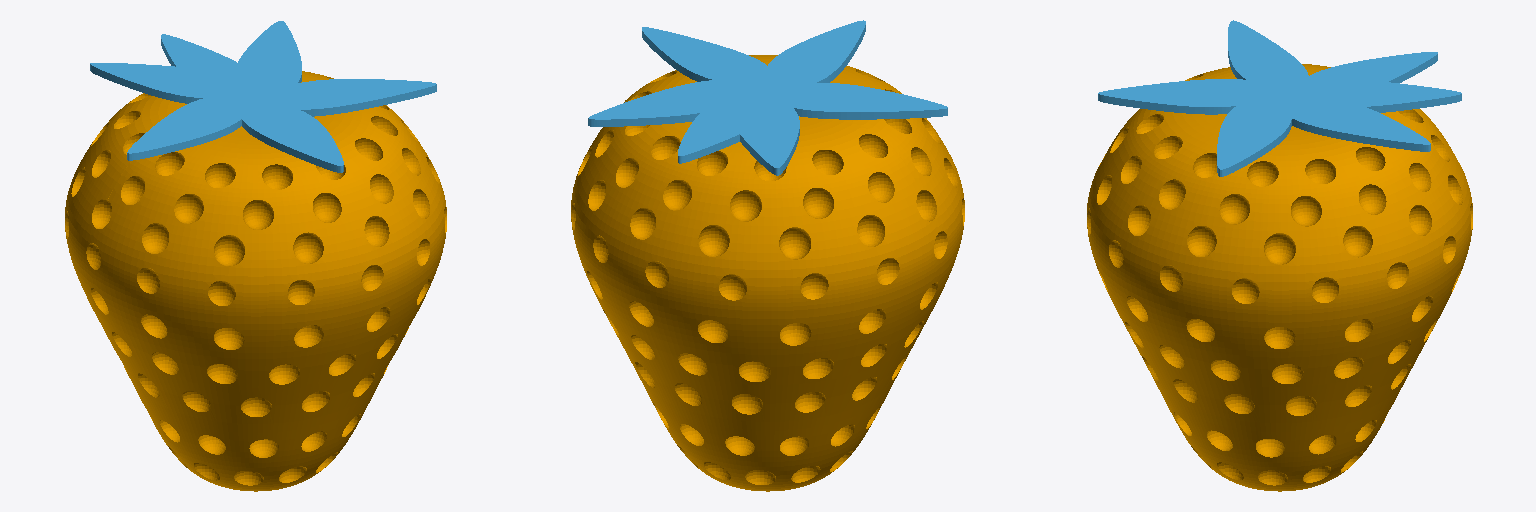
robot.urdf — strawberry:
<?xml version="1.0" ?>
<robot name="strawberry">

<material name="red">
  <color rgba="0.92 0.20 0.35 1.000"/>
</material>
<material name="green">
  <color rgba="0.0 1.0 0.0 1.000"/>
</material>


<link name="base_link">
  <inertial>
    <origin xyz="0.0 0.0 0.0" rpy="0 0 0"/>
    <mass value="1.2"/>
    <inertia ixx="0.0" iyy="0.0" izz="0.0" ixy="0.0" iyz="0.0" ixz="0.0"/>
  </inertial>
  <visual>
    <origin xyz="0 0 0" rpy="0 0 0"/>
    <geometry>
      <mesh filename="meshes/base_link.stl" scale="0.001 0.001 0.001"/>
    </geometry>
    <material name="red"/>
    <material/>
  </visual>
  <collision concave="yes">
    <origin xyz="0 0 0" rpy="0 0 0"/>
    <geometry>
      <mesh filename="meshes/base_link_col.stl" scale="0.0008 0.0008 0.0008"/>
    </geometry>
     <contact>
    <soft_cfm value="0.0"/>
      <soft_erp value="0.2"/>
  </contact>
  </collision>
</link>

<link name="leaf1">
  <inertial>
    <origin xyz="0.00022759153920535322 0.0017307134739732465 0.000500000759959221" rpy="0 0 0"/>
    <mass value="0.54260231966086"/>
    <inertia ixx="4.626098642629739e-07" iyy="3.7135835812823516e-07" izz="8.330638851917674e-07" ixy="2.52146951822774e-09" iyz="9.529120656610879e-22" ixz="-9.26442286059391e-23"/>
  </inertial>
  <visual>
    <origin xyz="-0.0 -0.0 -0.051" rpy="0 0 0"/>
    <geometry>
      <mesh filename="meshes/leaf1.stl" scale="0.001 0.001 0.001"/>
    </geometry>
    <material name="green"/>
    <material/>
  </visual>
  <collision cocave="yes">
    <origin xyz="-0.0 -0.0 -0.051" rpy="0 0 0"/>
    <geometry>
      <mesh filename="meshes/leaf1_col.stl" scale="0.0008 0.0008 0.008"/>
    </geometry>
     <contact>
    <soft_cfm value="0.0"/>
      <soft_erp value="0.2"/>
  </contact>
  </collision>
</link>

<joint name="Rigid_1" type="fixed">
  <origin xyz="0.0 0.0 0.051" rpy="0 0 0"/>
  <parent link="base_link"/>
  <child link="leaf1"/>
</joint>

</robot>

--- Render facts (derived) ---
3 views of the same robot in one strip: view 1: azimuth 30°, elevation 25°; view 2: azimuth 150°, elevation 25°; view 3: azimuth 270°, elevation 25° (orthographic).
Robot: strawberry — 2 links, 1 joints (1 fixed); root link base_link; default pose: every joint at zero.
Links seen in each view (by area): view 1: base_link, leaf1; view 2: base_link, leaf1; view 3: base_link, leaf1.
Link boxes in pixels (box(x1,y1,x2,y2)): base_link: box(65, 71, 446, 491); leaf1: box(90, 21, 436, 172); base_link: box(571, 55, 964, 491); leaf1: box(588, 20, 947, 175); base_link: box(1087, 64, 1472, 491); leaf1: box(1098, 20, 1461, 176).
Size in the robot's own frame: 0.0482 by 0.0482 by 0.0522 metres.
Meshes: 2 distinct files referenced, 2 mesh visuals loaded (2 binary STL).